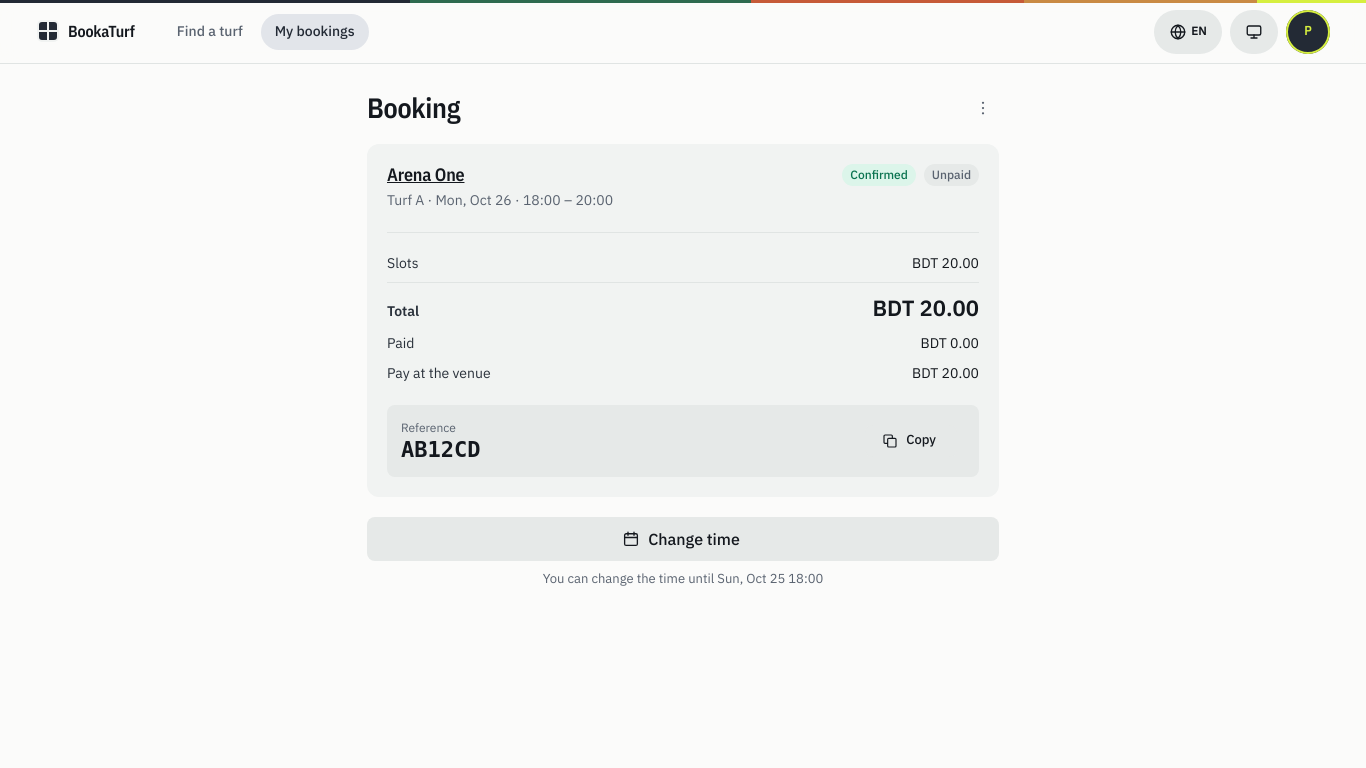
player change time › shows the hint and posts the new date and starts, then shows the moved booking
The image size is (1366, 768).
Expected: the text "You can change the time until Sun, Oct 25 18:00" is shown, [543,570,823,587]
Click the button "Change time".
click(683, 539)  # box [367,517,999,561]
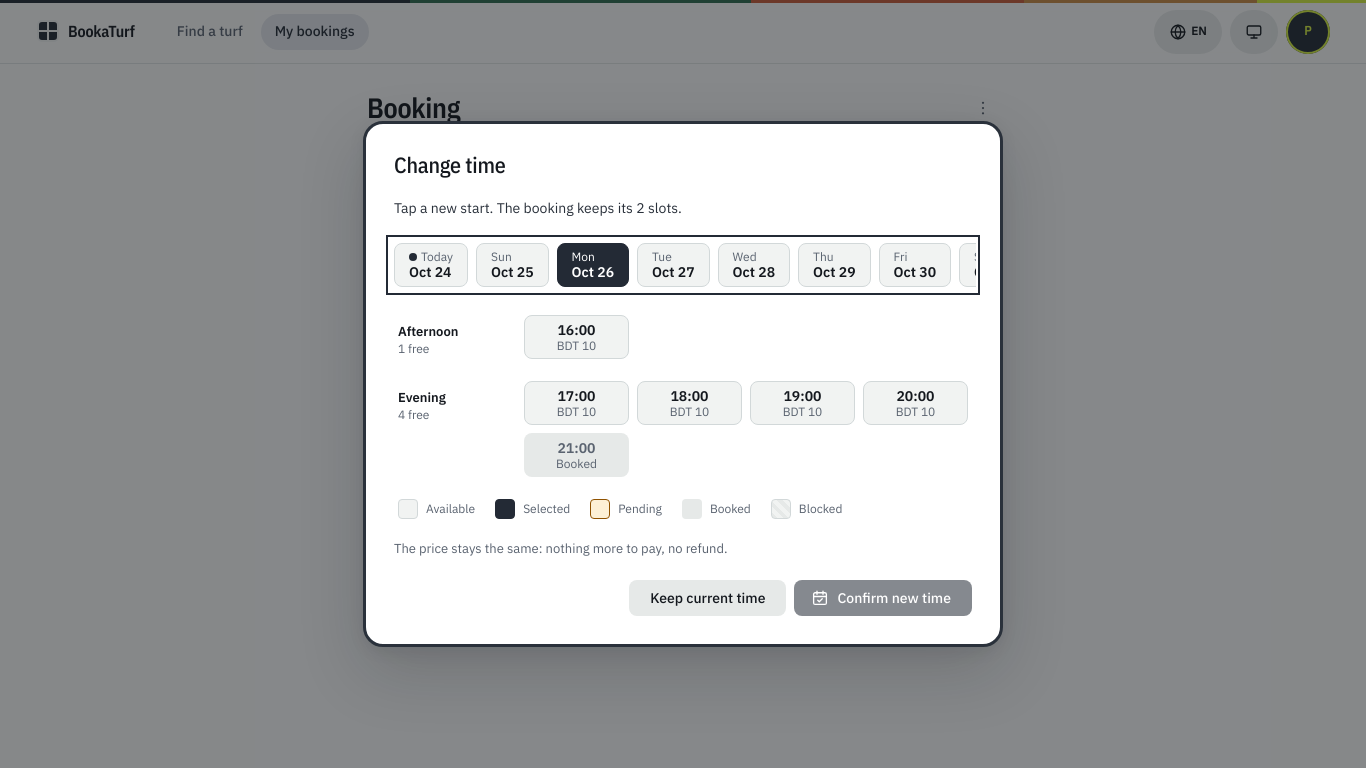
Expected: the text "The price stays the same: nothing more to pay, no refund." is shown, [394,540,728,557]
Expected: the number of buttons "16:00 BDT 10" is 1
Expected: the button "Confirm new time" is disabled, [794,580,972,616]
# One tap picks two slots in a row: 16:00 and 17:00.
Click the button "16:00 BDT 10".
click(576, 337)  # box [524,315,629,359]
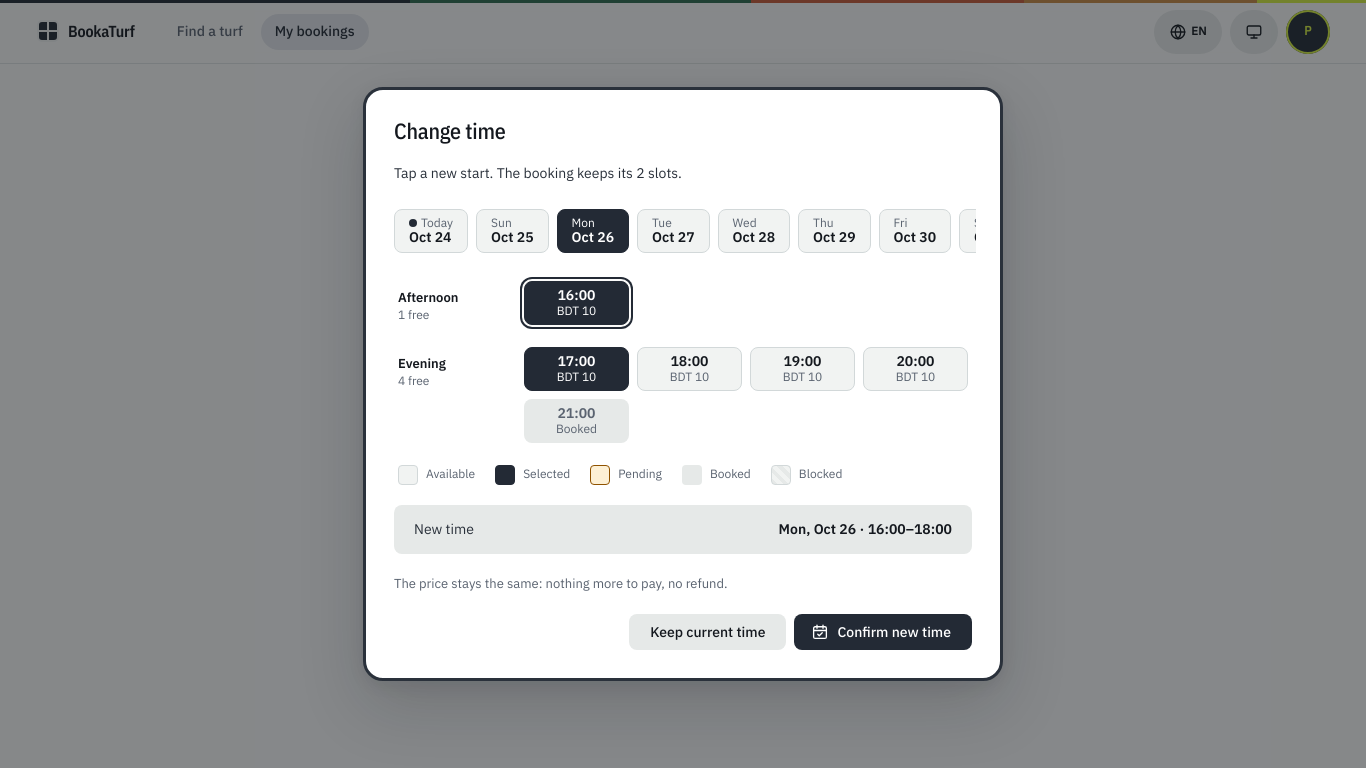
Expected: the text "Mon, Oct 26 · 16:00–18:00" is shown, [779,519,952,540]
Click the button "Confirm new time".
click(883, 632)  # box [794,614,972,650]
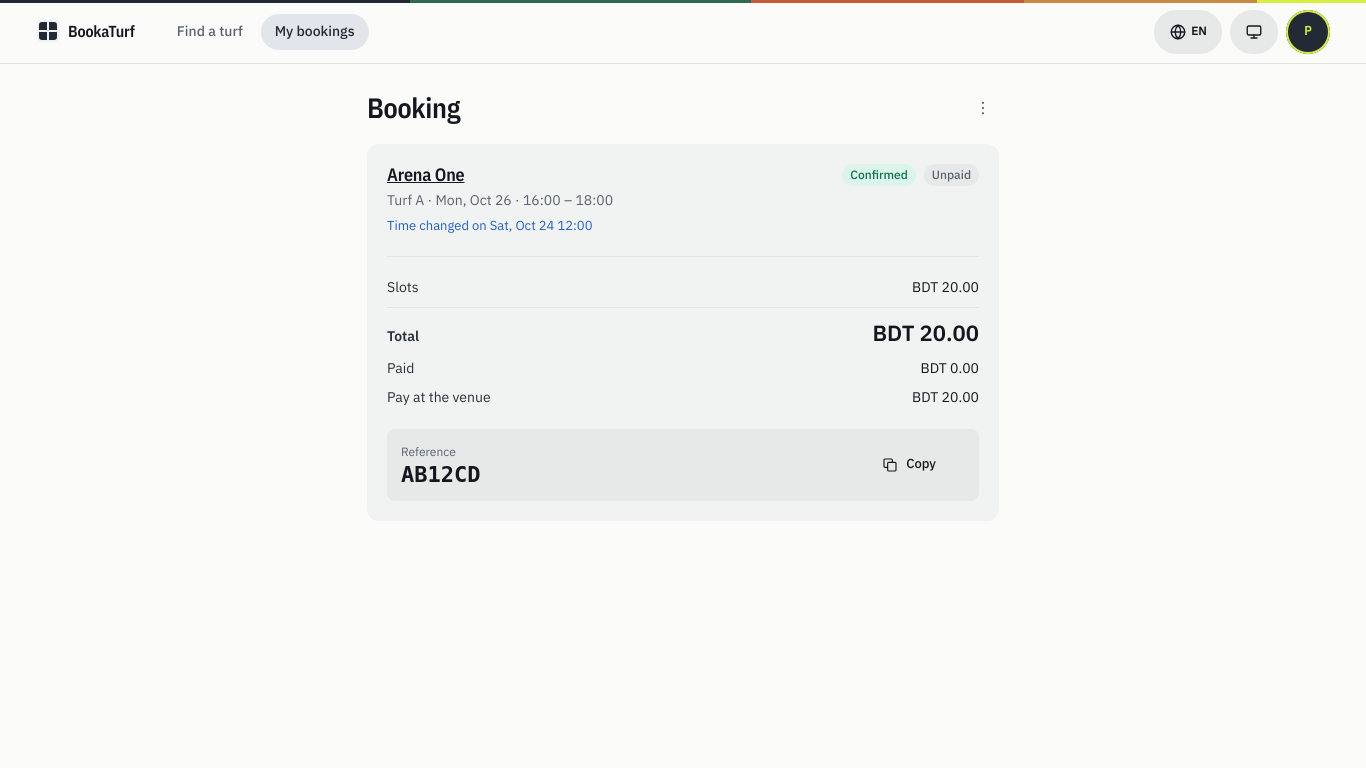
Expected: the dialog is gone
Expected: the text "Time changed on Sat, Oct 24 12:00" is shown, [387,217,592,234]
Expected: the button "Change time" is gone
